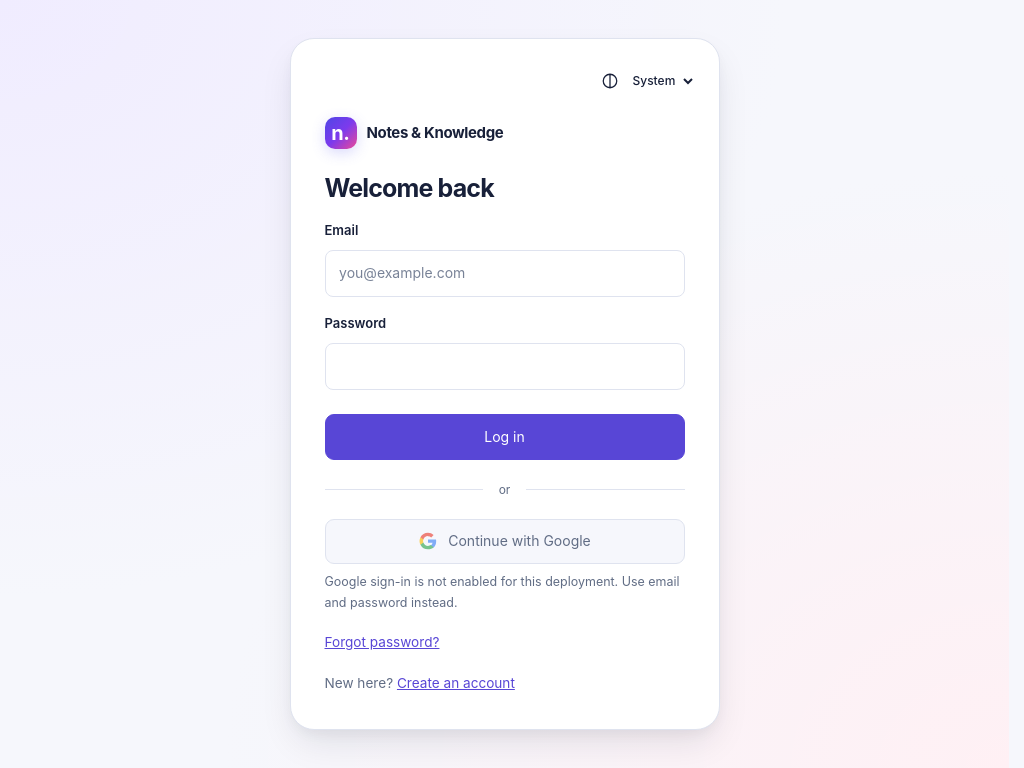
Scenario: authentication browser journey › presents a safe service-unavailable state without raw response details
This screenshot has width=1024, height=768.
Check: the heading "Welcome back" is shown, box x1=324 y1=173 x2=494 y2=203
Step 1. Type "person@example.test" into the field labelled "Email" → (504, 273), box x1=324 y1=250 x2=684 y2=297
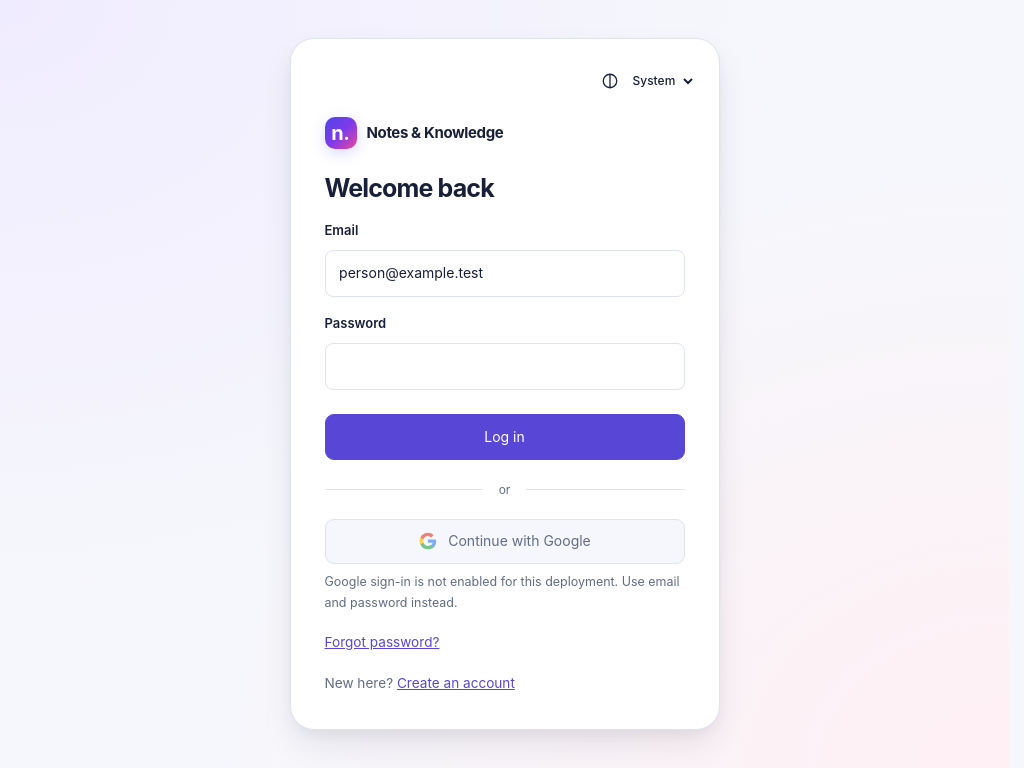
Step 2. Type "Synthetic-password-123!" into the password field labelled "Password" → (504, 366), box x1=324 y1=343 x2=684 y2=390
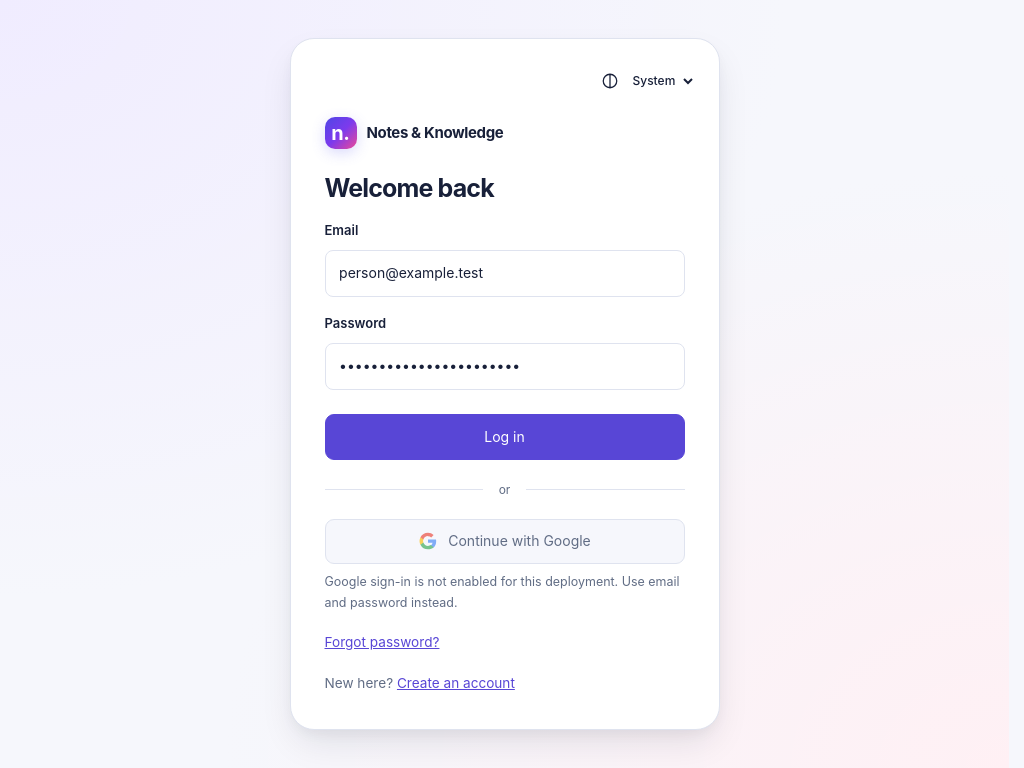
Step 3. Click the button "Log in" → (504, 437), box x1=324 y1=414 x2=684 y2=460
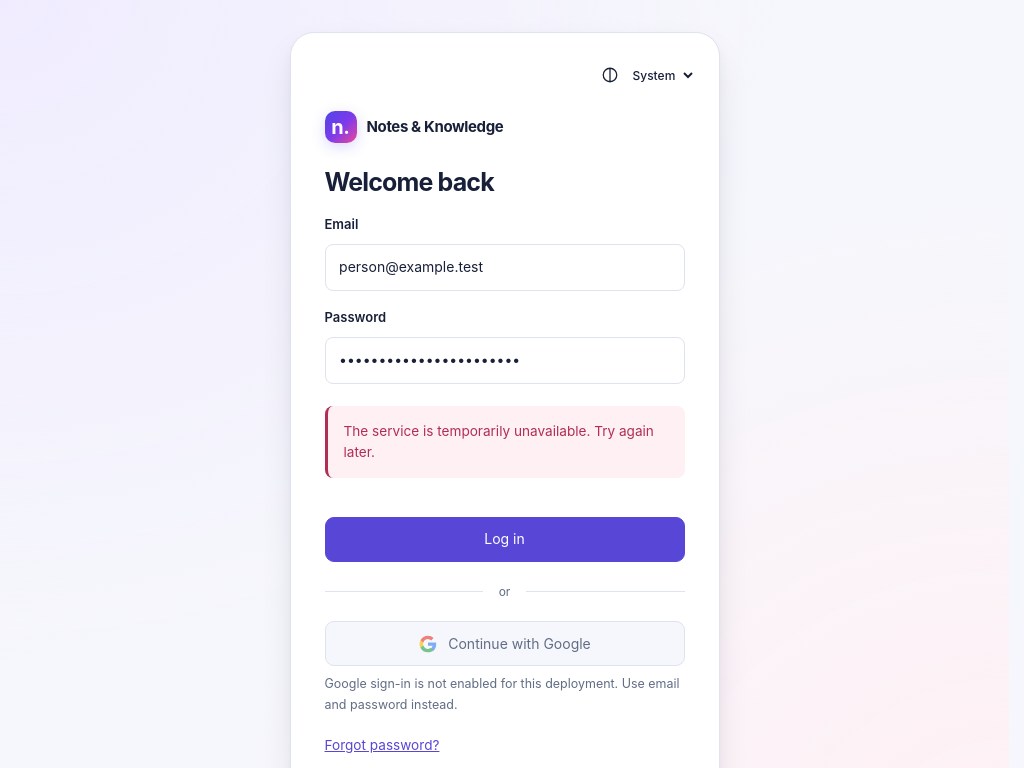
Check: the text "The service is temporarily unavailable. Try again later." is shown, box x1=324 y1=406 x2=684 y2=478
